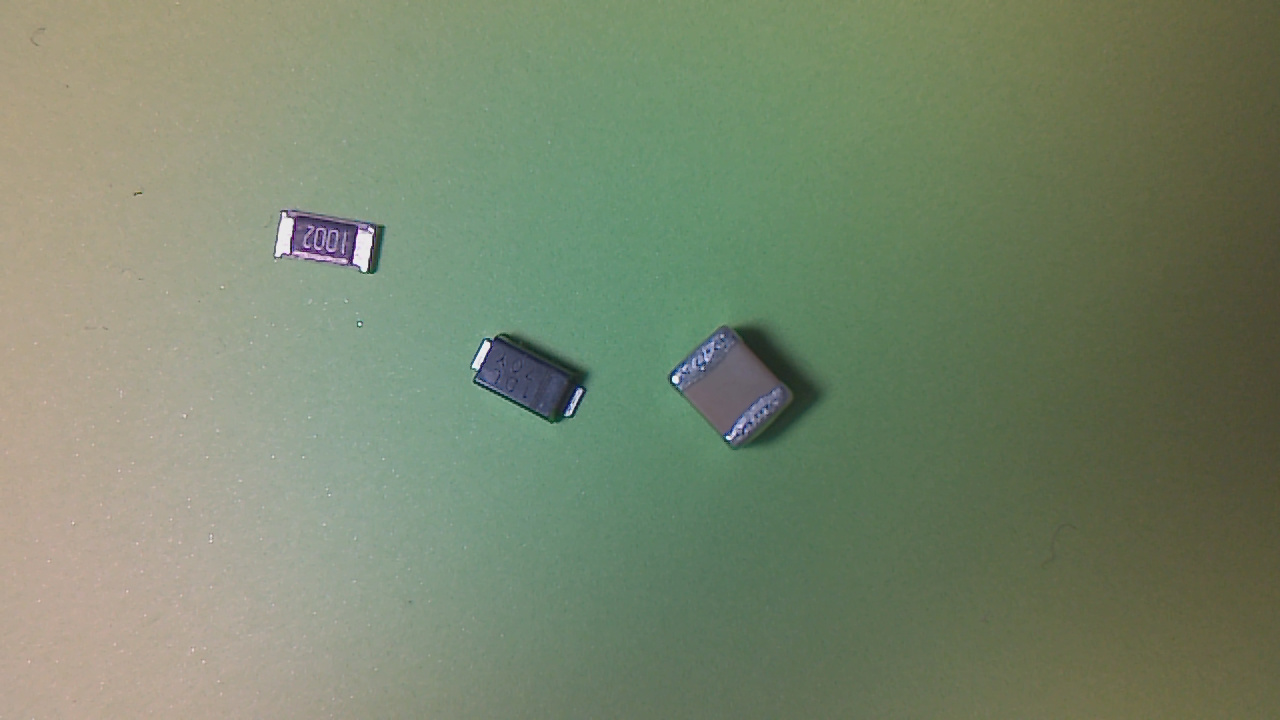Condensator: (671, 331, 803, 457)
Diode: (472, 338, 592, 432)
Resistor: (279, 212, 388, 282)
